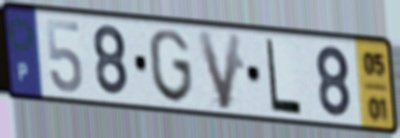5: (43, 16, 85, 94)
8: (314, 43, 354, 120), (91, 23, 131, 99)
G: (146, 27, 196, 106)
L: (264, 37, 304, 118)
V: (194, 28, 244, 113)
